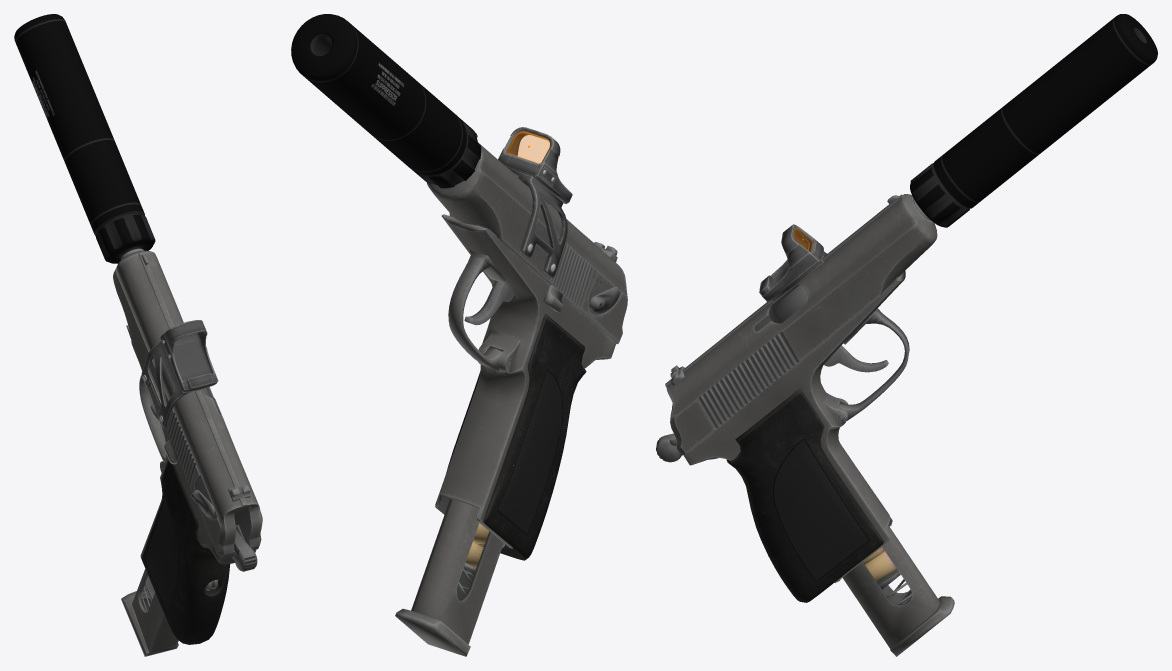
The model's file is makarov_tp.glb.
3 renders of one model, left to right at view 1: azimuth 30°, elevation 25°; view 2: azimuth 150°, elevation 25°; view 3: azimuth 270°, elevation 25°, orthographic. The views are drawn at different scales.
Parts seen in each view (by area): view 1: makarov; view 2: makarov; view 3: makarov.
Boxes of the visible parts, x1=… form: makarov: x1=14, y1=14, x2=262, y2=656; makarov: x1=291, y1=14, x2=627, y2=656; makarov: x1=656, y1=14, x2=1157, y2=656.
Bounding box in the file's own units: 0.0345 × 0.3137 × 0.2279.
Materials: 2 (2 with a texture image).
